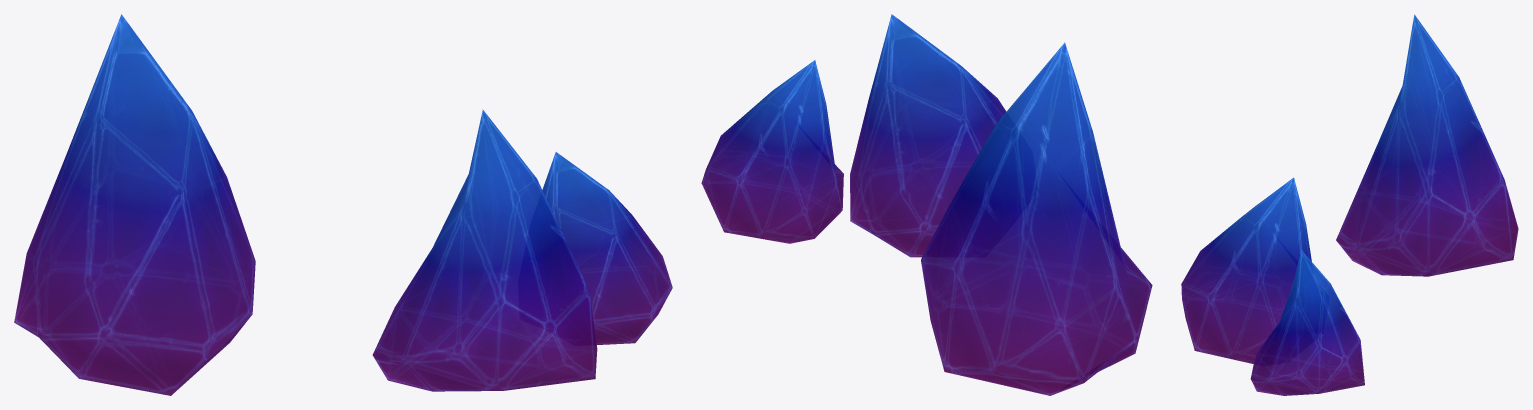
Rendered from crystal.gltf.
3 views of the same model, side by side, from view 1: azimuth 30°, elevation 25°; view 2: azimuth 150°, elevation 25°; view 3: azimuth 270°, elevation 25° (orthographic). The views are drawn at different scales.
Parts seen in each view (by area): view 1: Group7015, Group7013, Group7014; view 2: Group7015, Group7013, Group7014; view 3: Group7015, Group7013, Group7014.
Part boxes in pixels (x1,y1,x2,y2): Group7015: (14, 14, 255, 395); Group7013: (372, 109, 597, 391); Group7014: (542, 152, 672, 344); Group7015: (921, 42, 1152, 395); Group7013: (850, 14, 1006, 257); Group7014: (701, 60, 843, 243); Group7015: (1336, 14, 1518, 276); Group7013: (1181, 177, 1311, 363); Group7014: (1250, 250, 1364, 395).
Bounding box in the file's own units: 5.34 × 3.28 × 4.08.
Materials: 1 (1 with a texture image).
